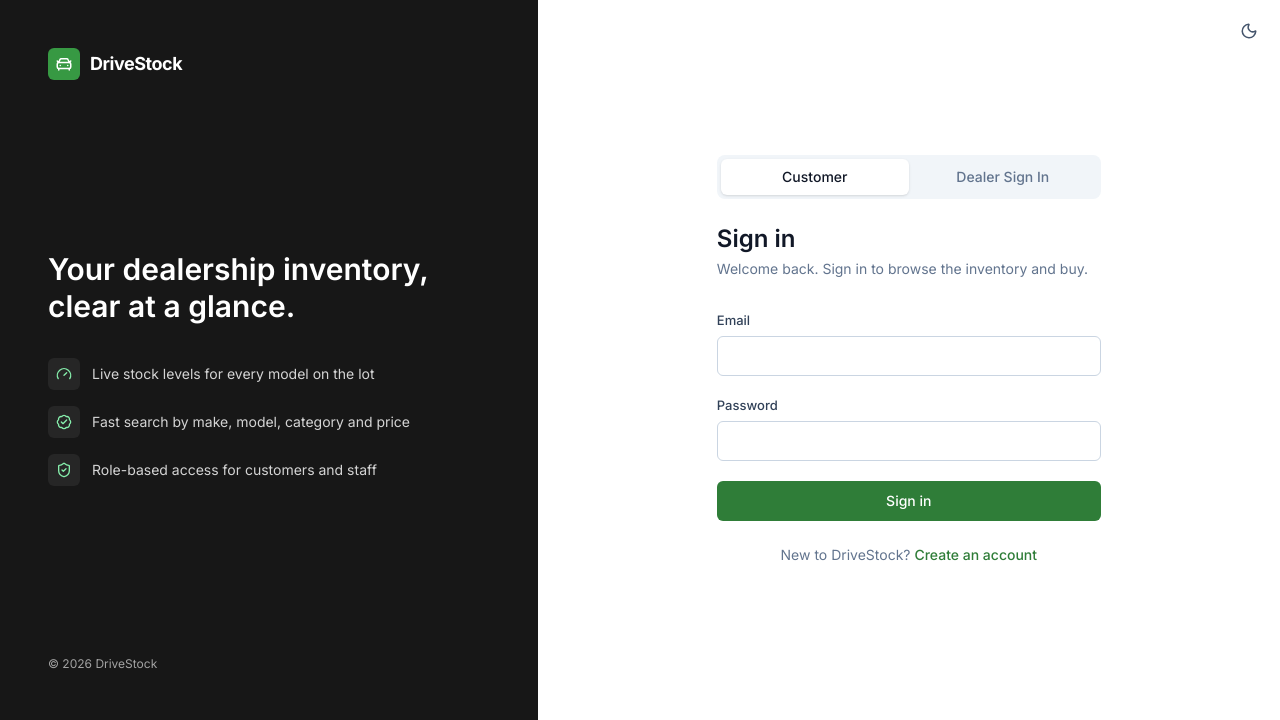
Test case: dealer sign-in entry point › offers a clearly visible Dealer Sign In option on the login page
Click the tab "Dealer Sign In". click: (1003, 177)
box: [909,159,1097,195]
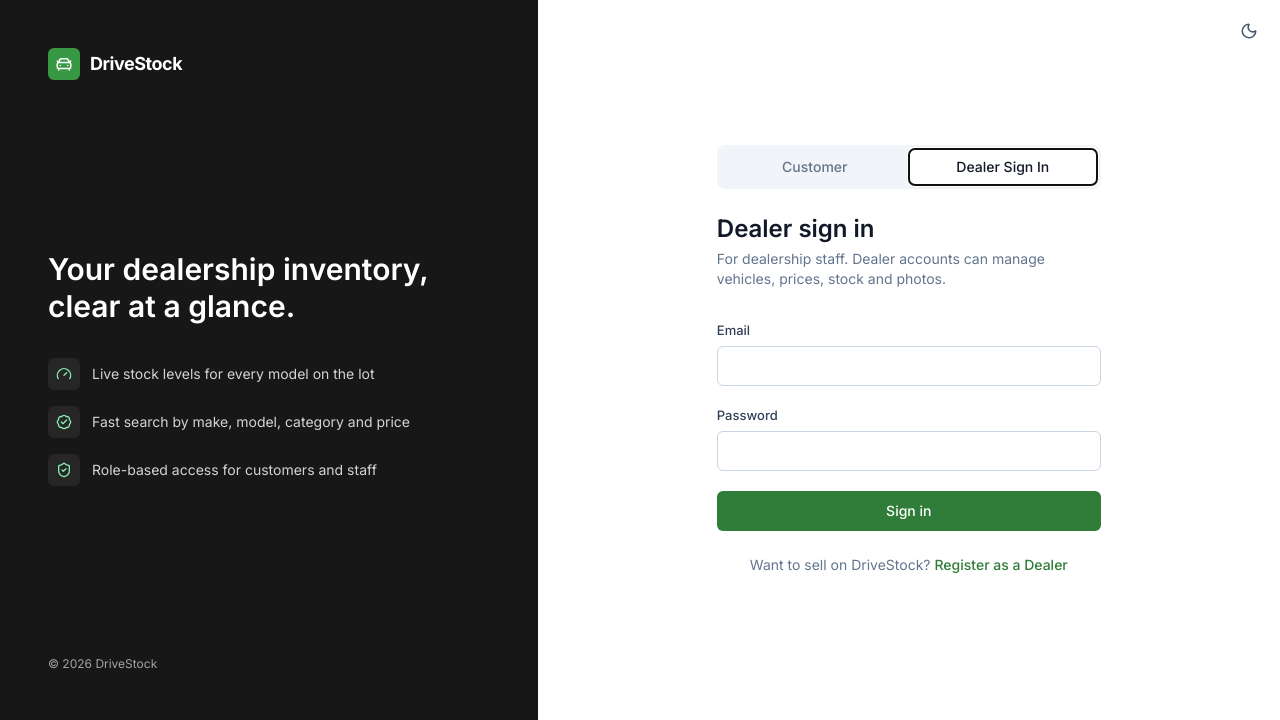
Now the heading "Dealer sign in" is shown, box [717,214,875,243]
